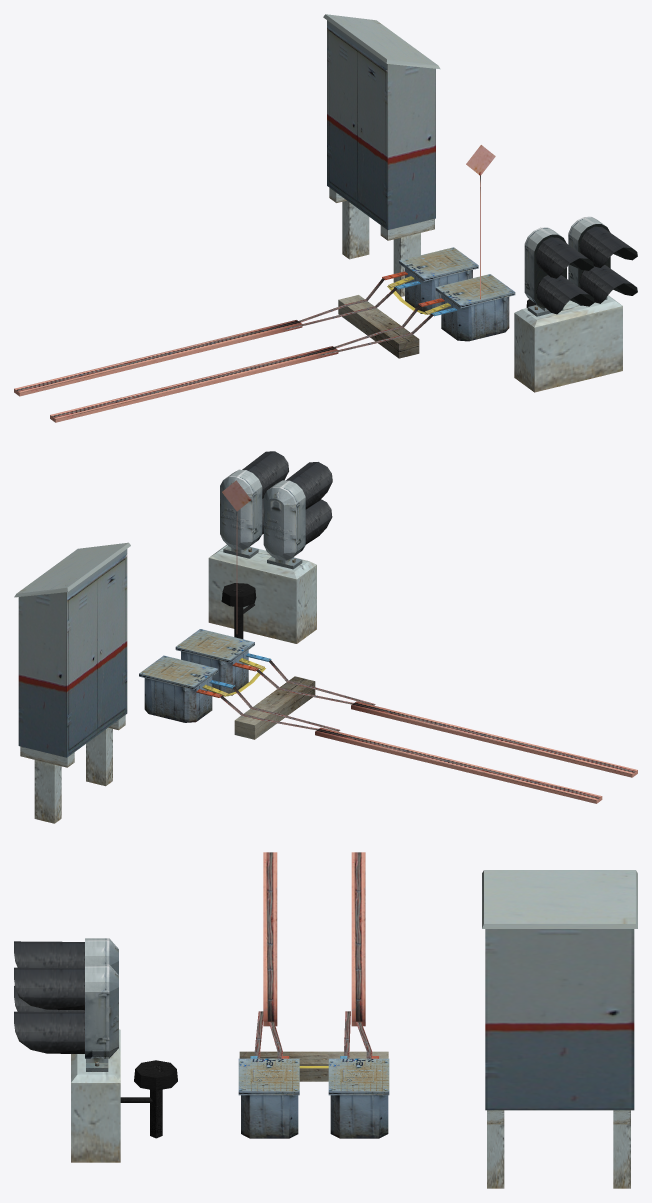
The model's file is sig_k5.gltf.
3 renders of one model, top to bottom at view 1: azimuth 30°, elevation 25°; view 2: azimuth 150°, elevation 25°; view 3: azimuth 270°, elevation 25°, orthographic. The views are drawn at different scales.
Size of the model in its own units: 4.35 by 2.06 by 3.91.
Materials: 1 (1 with a texture image).
